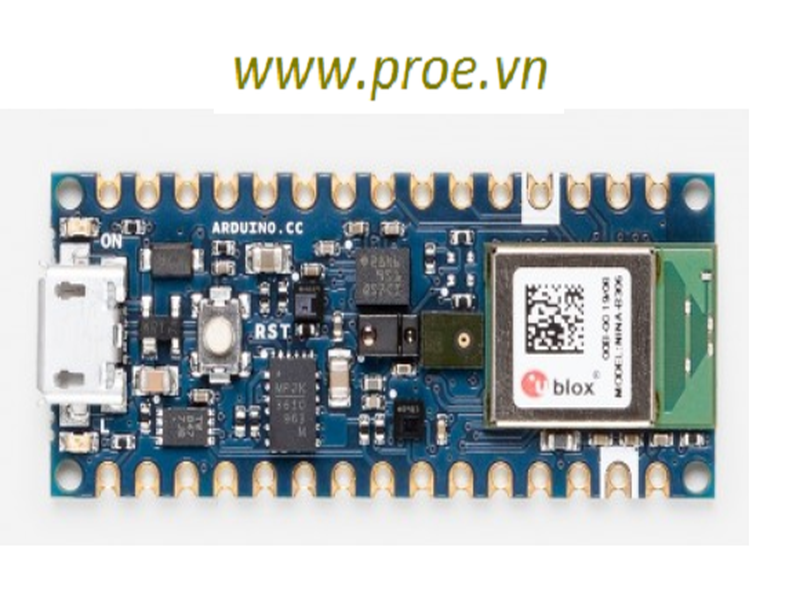Arduino_Nano: (29, 169, 718, 502)
